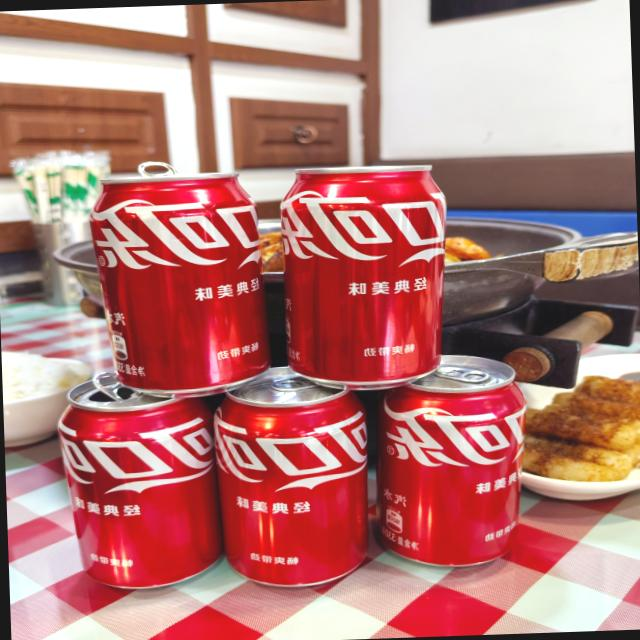can: (85, 156, 274, 402), (274, 158, 452, 396), (52, 377, 220, 594), (369, 352, 534, 572), (212, 383, 377, 595)
